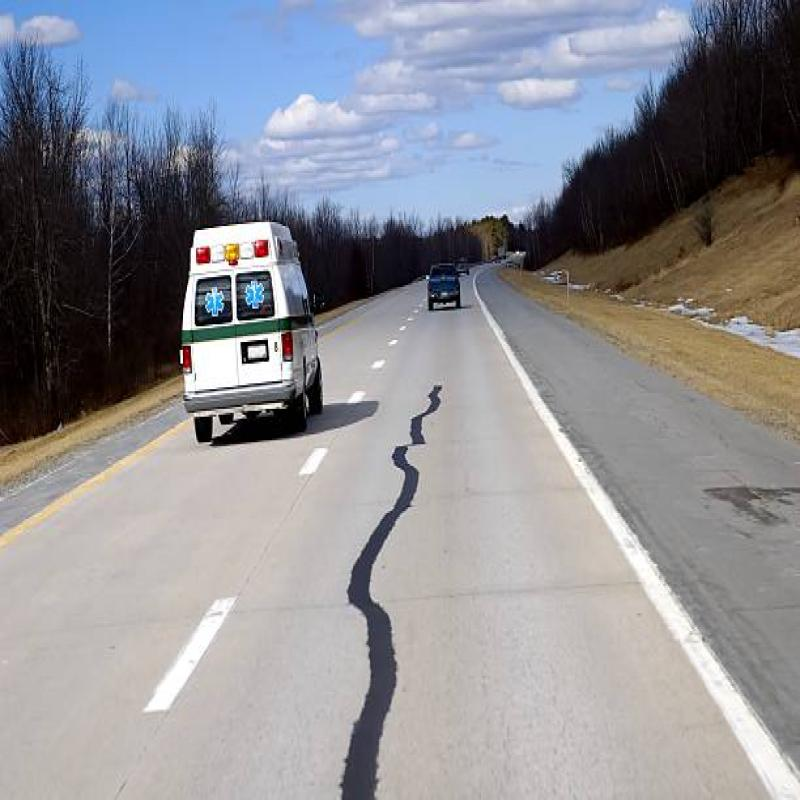ambulance: (170, 205, 330, 448)
